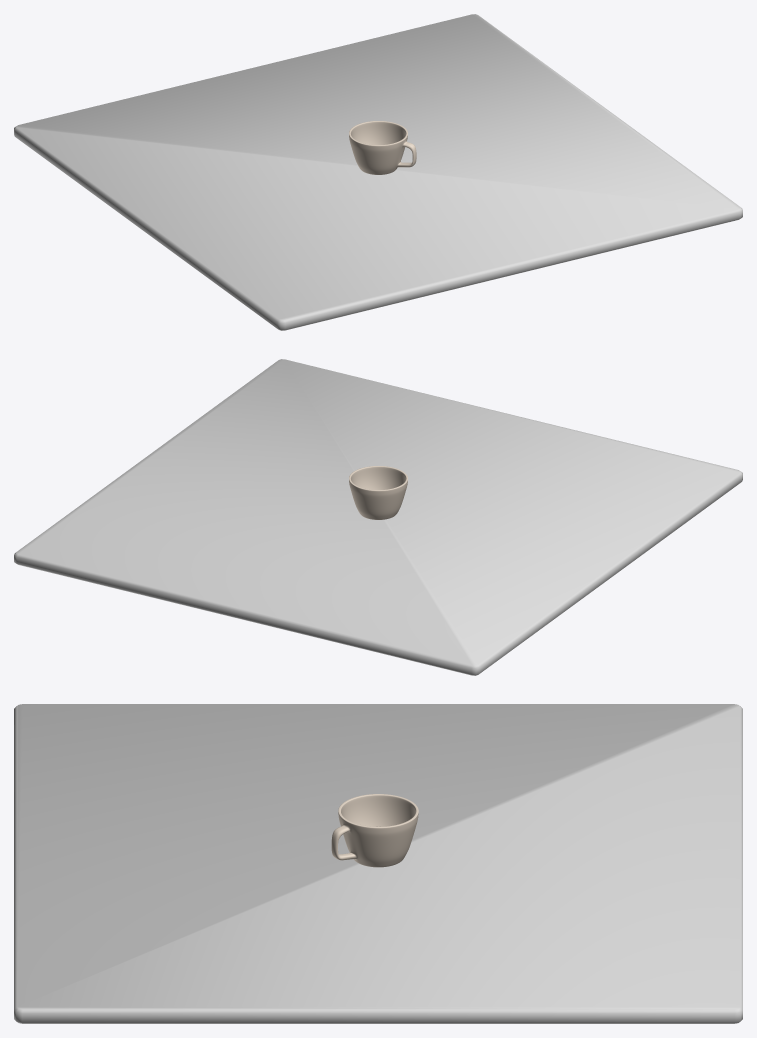
Rendered from Cup.fbx.
3 views of the same model, one above another, from view 1: azimuth 30°, elevation 25°; view 2: azimuth 150°, elevation 25°; view 3: azimuth 270°, elevation 25° (orthographic). The views are drawn at different scales.
Visible parts, largest first — view 1: Plane, Circle; view 2: Plane, Circle; view 3: Plane, Circle.
Boxes of the visible parts, x1,y1,x2,y2 form: Plane: (14,14,742,330); Circle: (349,121,416,174); Plane: (14,359,742,675); Circle: (349,466,407,519); Plane: (14,704,742,1023); Circle: (331,794,418,867).
Size of the model in its own units: 5722 by 523 by 5722.
